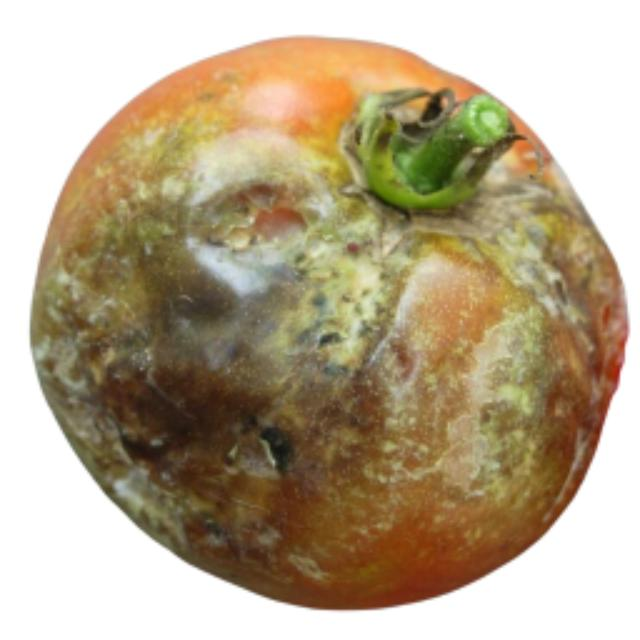defect: (22, 30, 631, 614)
